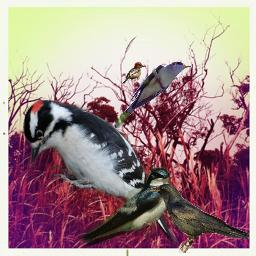Crow: (146, 183, 250, 253)
Cuckoo: (114, 61, 192, 128)
Swallow: (79, 167, 171, 248)
Woodpecker: (21, 97, 179, 247), (121, 62, 146, 84)
